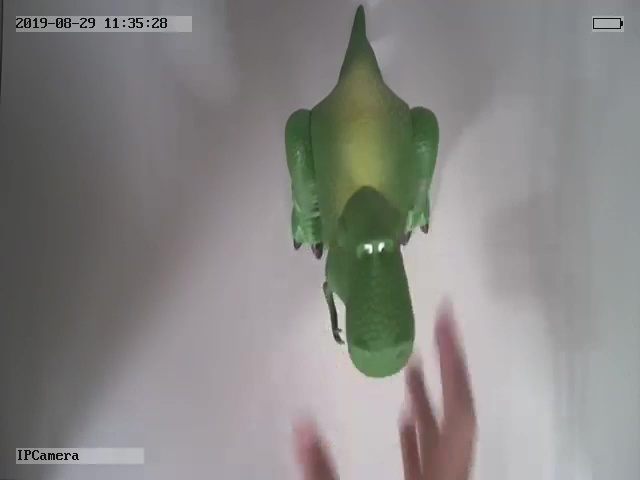rex: (284, 6, 441, 378)
